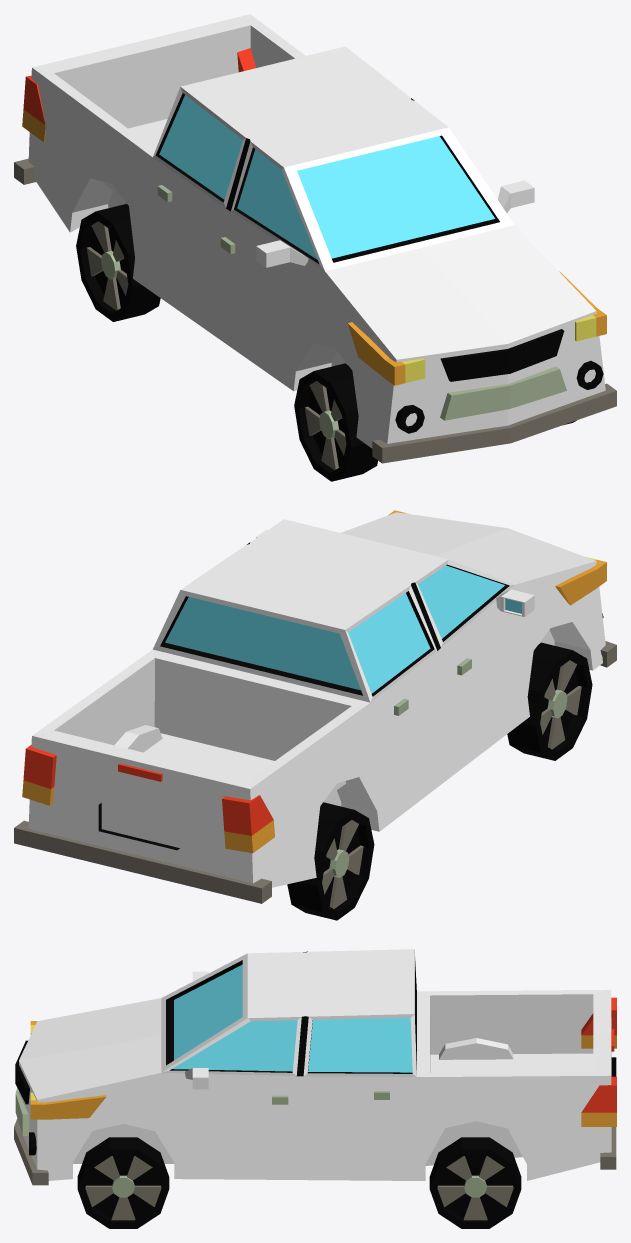
Rendered from CarHilux.fbx.
3 views of the same model, one above another, from view 1: azimuth 30°, elevation 25°; view 2: azimuth 150°, elevation 25°; view 3: azimuth 270°, elevation 25° (orthographic). The views are drawn at different scales.
Parts seen in each view (by area): view 1: Hilux; view 2: Hilux; view 3: Hilux.
Part boxes in pixels (left/top/right/bottom): Hilux: left=14, top=14, right=616, bottom=481; Hilux: left=14, top=510, right=616, bottom=920; Hilux: left=14, top=949, right=616, bottom=1228.
Bounding box in the file's own units: 231 × 203 × 555.
